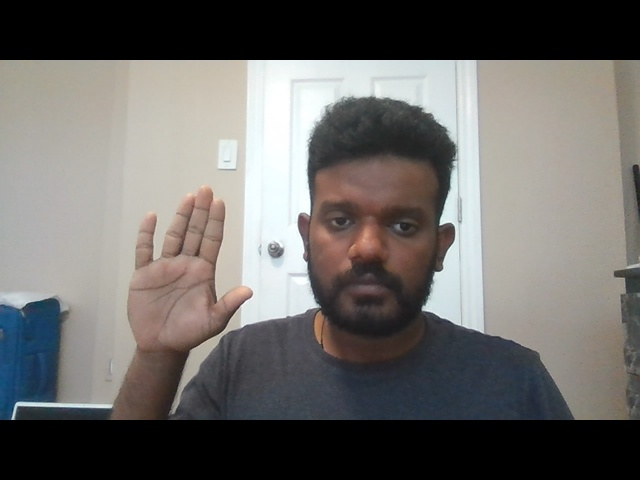hello: (122, 182, 257, 365)
